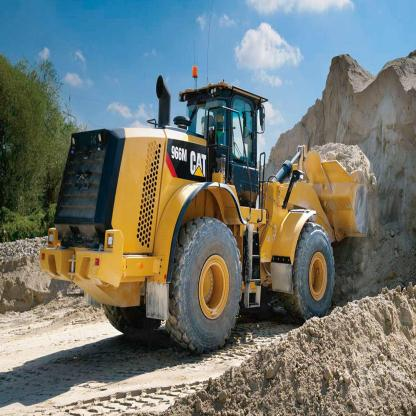bull_dozer/loader/grader: (36, 59, 382, 356)
